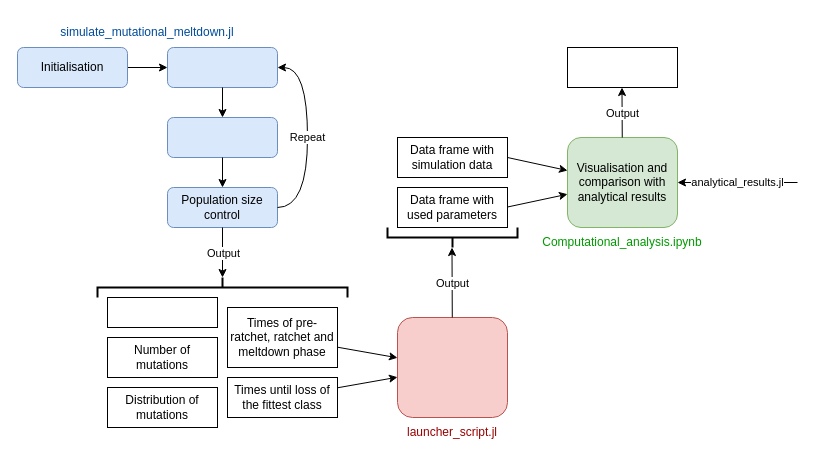
Some shapes in this 823 by 464 pixel diagram are drawn without their labels. The shapes that lost their labels are listed below. From the top down, each one's centre as x and y in pixels, then its label:
At (x=222, y=67): "Mutation".
At (x=622, y=67): "Plots and animations".
At (x=222, y=137): "Reproduction".
At (x=162, y=312): "Extinction time".
At (x=452, y=367): "Run the simulations for a range of parameters and number of replications".
